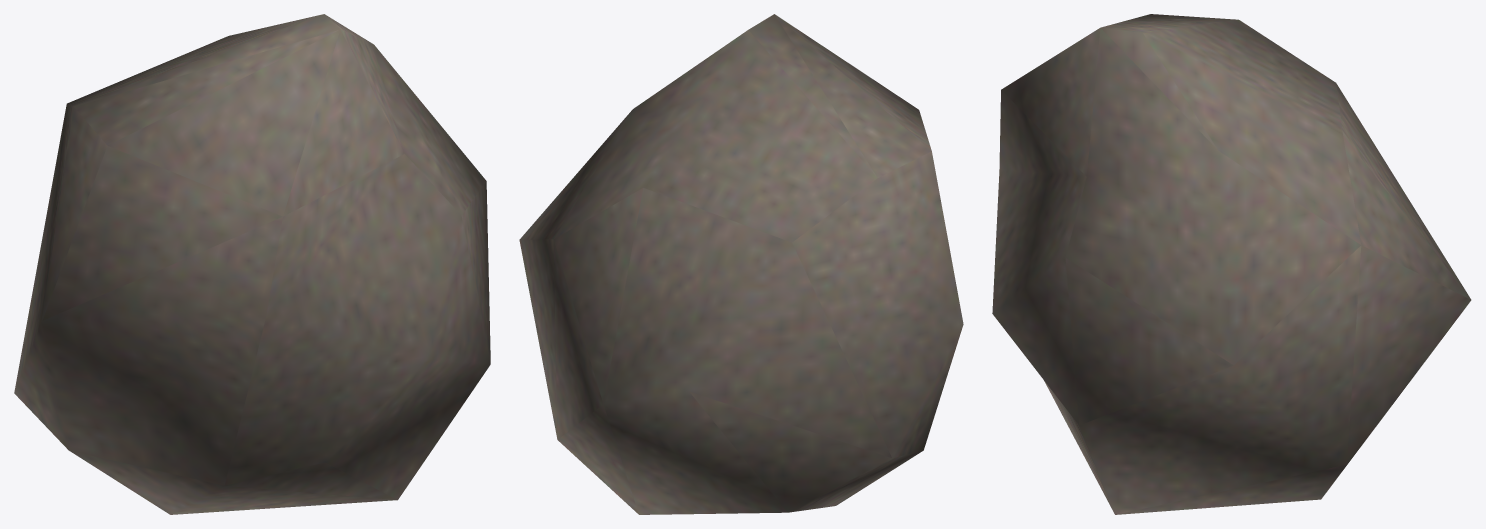
File: rock1.008.obj
3 views of the same model, side by side, from view 1: azimuth 30°, elevation 25°; view 2: azimuth 150°, elevation 25°; view 3: azimuth 270°, elevation 25° (orthographic). The views are drawn at different scales.
Visible parts, largest first — view 1: rock1.008_Cube.030; view 2: rock1.008_Cube.030; view 3: rock1.008_Cube.030.
Part boxes in pixels (x1,y1,x2,y2): rock1.008_Cube.030: [14, 14, 490, 514]; rock1.008_Cube.030: [519, 14, 963, 514]; rock1.008_Cube.030: [992, 14, 1471, 514].
Bounding box in the file's own units: 82.01 × 81.42 × 77.17.
